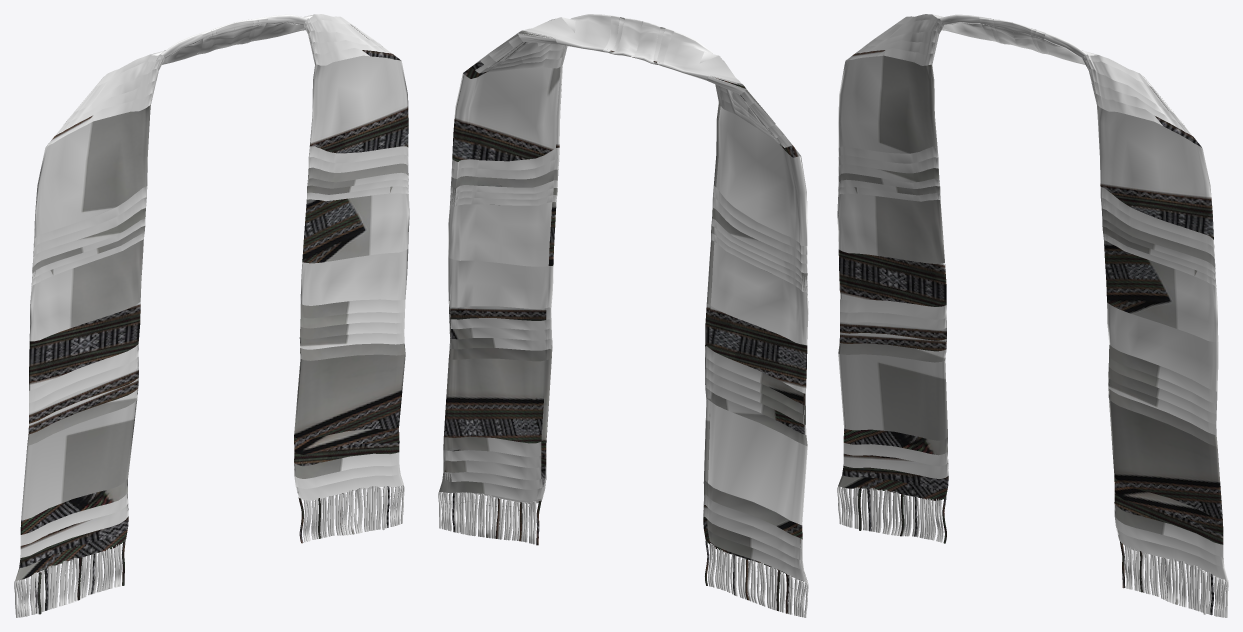
File: sash_both_down.glb
3 renders of one model, left to right at view 1: azimuth 30°, elevation 25°; view 2: azimuth 150°, elevation 25°; view 3: azimuth 330°, elevation 25°, orthographic. The views are drawn at different scales.
Visible parts, largest first — view 1: plain_section, stripe_2, stripe_1, mid_stripes; view 2: plain_section, stripe_2, stripe_1, mid_stripes; view 3: plain_section, stripe_2, stripe_1, mid_stripes.
Boxes of the visible parts, x1,y1,x2,y2 form: plain_section: (14,14,409,617); stripe_2: (15,14,405,580); stripe_1: (19,19,404,568); mid_stripes: (20,30,404,557); plain_section: (438,14,808,617); stripe_2: (439,17,807,582); stripe_1: (442,41,806,570); mid_stripes: (443,44,805,560); plain_section: (837,14,1228,617); stripe_2: (838,14,1227,579); stripe_1: (839,19,1224,566); mid_stripes: (840,30,1223,556).
Size of the model in its own units: 1.63 by 2.26 by 0.1773.
Materials: 1 (1 with a texture image).
